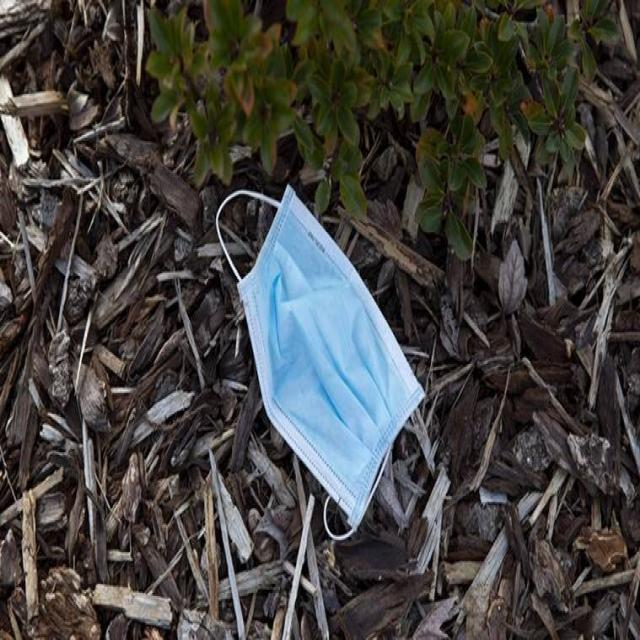non-organic waste: (214, 175, 421, 532)
